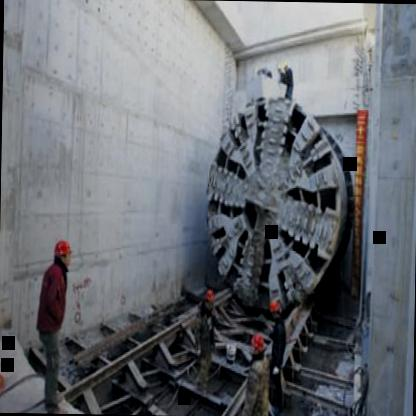helmet: (49, 230, 73, 274), (265, 296, 282, 321), (248, 332, 265, 356), (204, 286, 216, 304)
